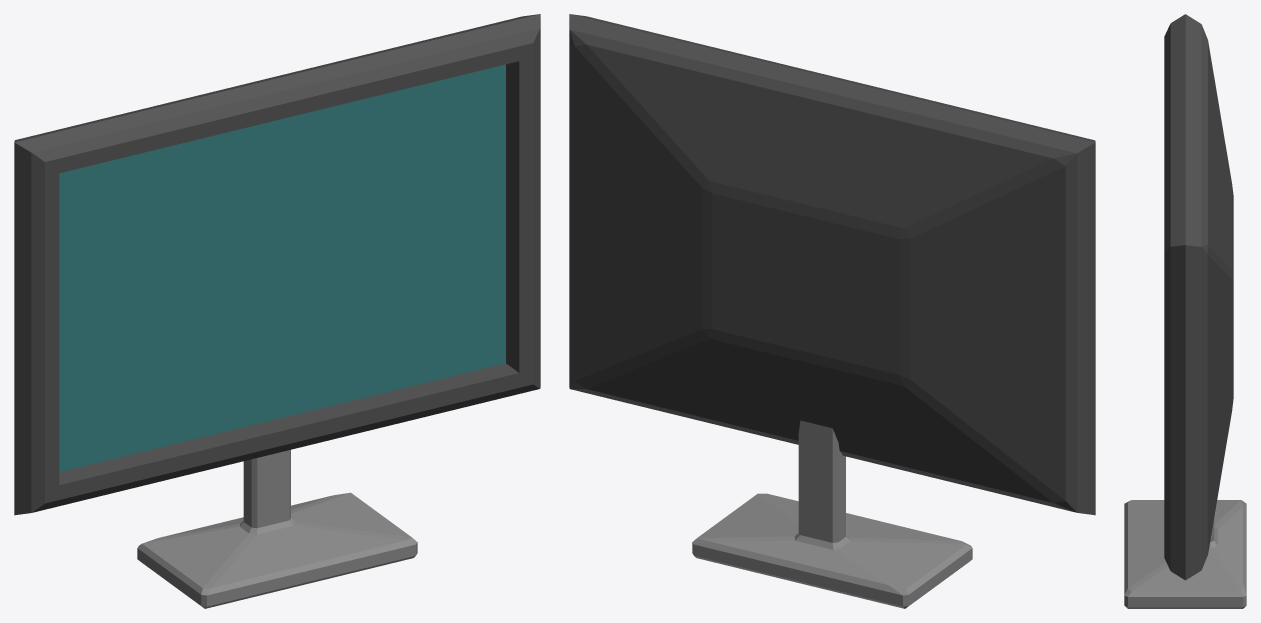
File: pc_monitor.gltf
The picture shows the model from 3 angles, left to right: view 1: azimuth 30°, elevation 25°; view 2: azimuth 150°, elevation 25°; view 3: azimuth 270°, elevation 25°; orthographic projection. The views are drawn at different scales.
Visible parts, largest first — view 1: Monitor; view 2: Monitor; view 3: Monitor.
Boxes of the visible parts, x1,y1,x2,y2 form: Monitor: (14, 14, 540, 608); Monitor: (569, 14, 1095, 608); Monitor: (1124, 14, 1246, 608).
Size of the model in its own units: 4.53 by 3.97 by 1.02.
